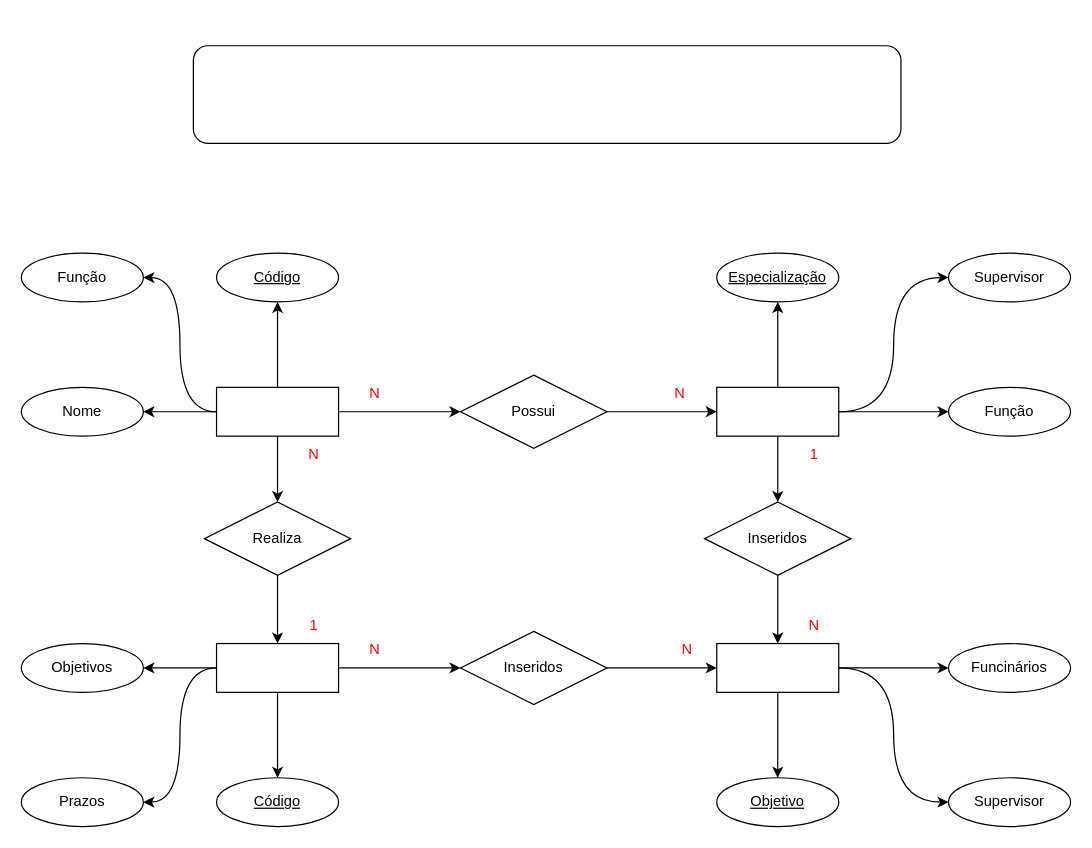
The diagram is 1092 pixels wide and 848 high, and some of its shapes have lost their labels. The centre of each missing label's shape, as x and y in pixels:
Cargo: point (777, 411)
Diagrama - Exercício 10, Slide 2: point (546, 94)
Funcinário: point (277, 411)
Projetos: point (277, 667)
Setor: point (777, 667)
